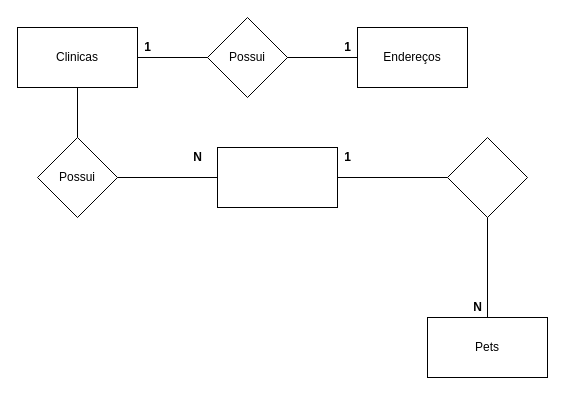
The diagram is 565 pixels wide and 395 high, and some of its shapes have lost their labels. The centre of each missing label's shape, as x and y in pixels:
"Atendem" belongs at pixel 487 177.
"Veterinarios" belongs at pixel 277 177.
